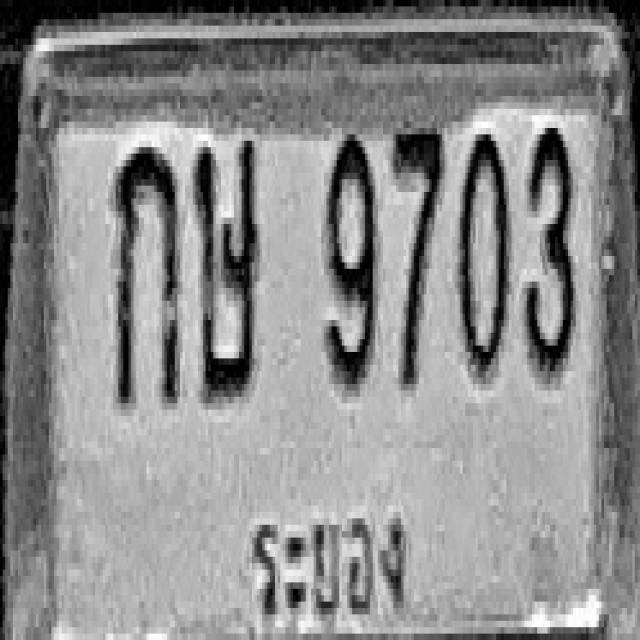0: (457, 128, 509, 378)
10GorGai: (114, 144, 179, 406)
3: (523, 121, 575, 378)
48SorRueSi: (192, 134, 260, 403)
7: (392, 119, 443, 388)
9: (324, 131, 375, 387)
Rayong: (233, 479, 410, 638)
